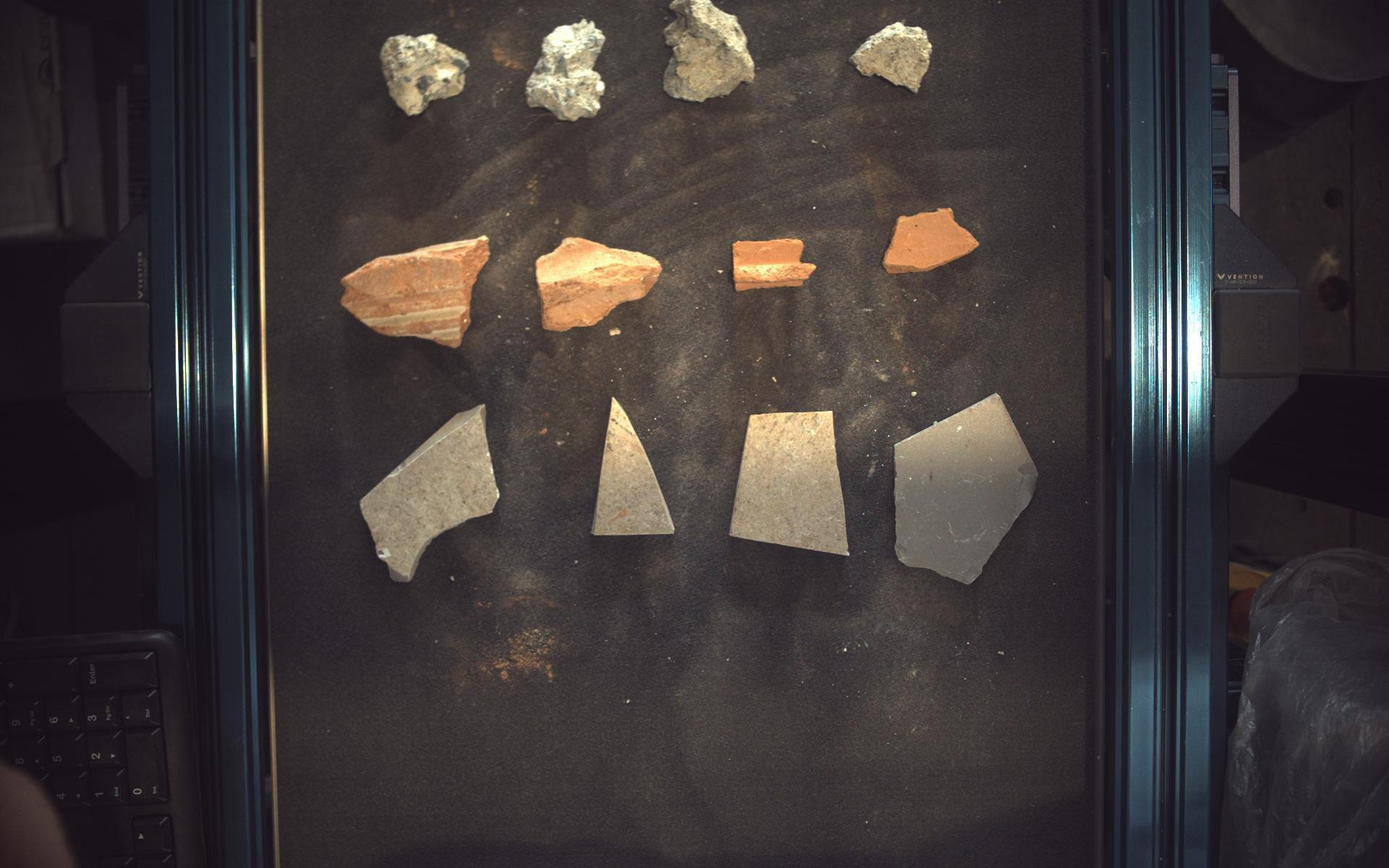brick: (340, 235, 489, 347), (536, 237, 662, 331), (885, 208, 980, 273), (734, 239, 817, 291)
concrete: (665, 1, 755, 101), (527, 18, 606, 120), (381, 32, 470, 114), (852, 21, 934, 91)
tile: (896, 393, 1040, 585), (360, 404, 500, 583), (731, 411, 849, 556), (592, 398, 676, 536)
